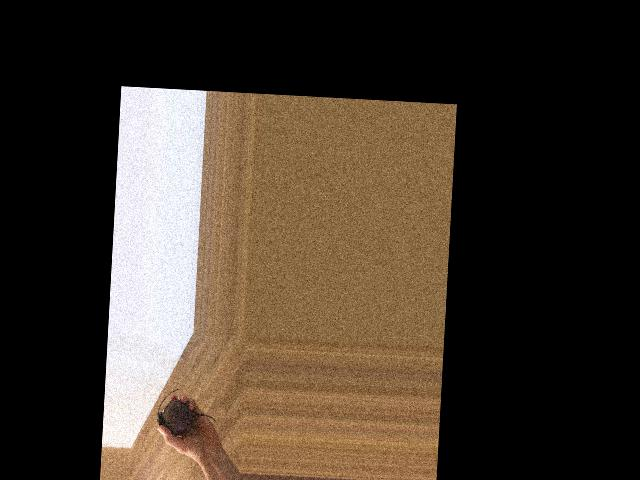beet: (155, 387, 217, 437)
